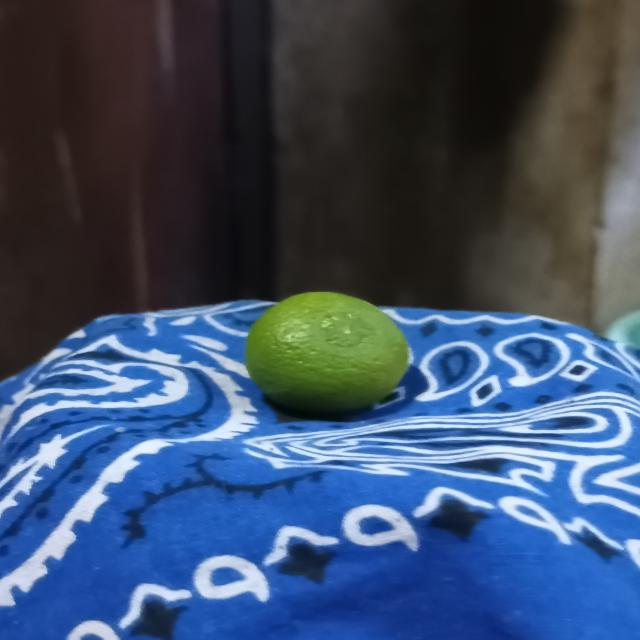heathy: (243, 286, 416, 412)
